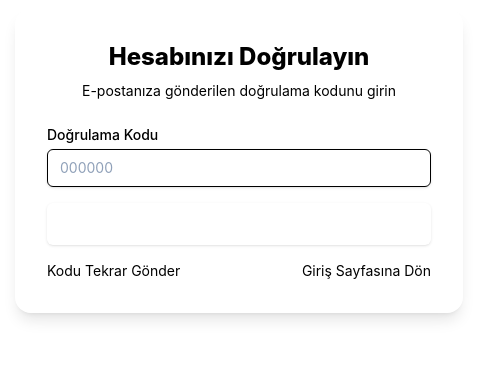
Test case: VerifyPage › resends code successfully
Click the button "Kodu Tekrar Gönder".
click(114, 271)  # box [47,261,180,281]
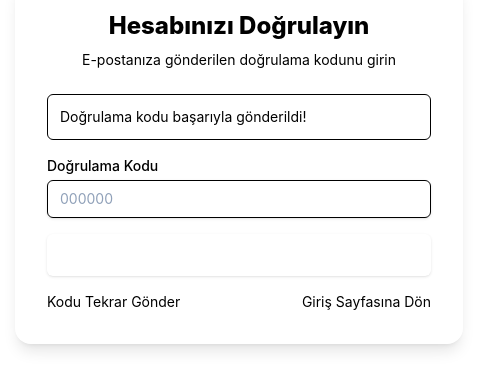
Now the text "Doğrulama kodu başarıyla gönderildi!" is shown, box [47,94,431,140]
